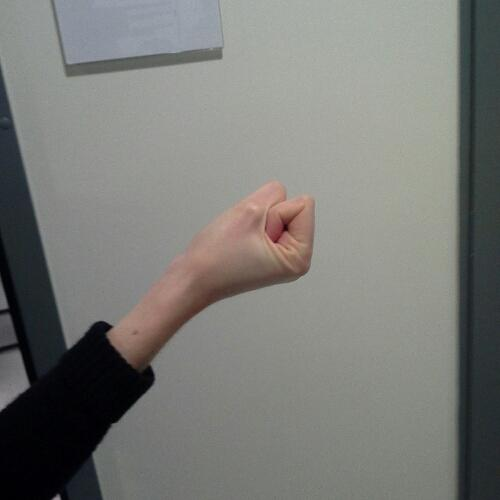rock: (172, 171, 322, 296)
